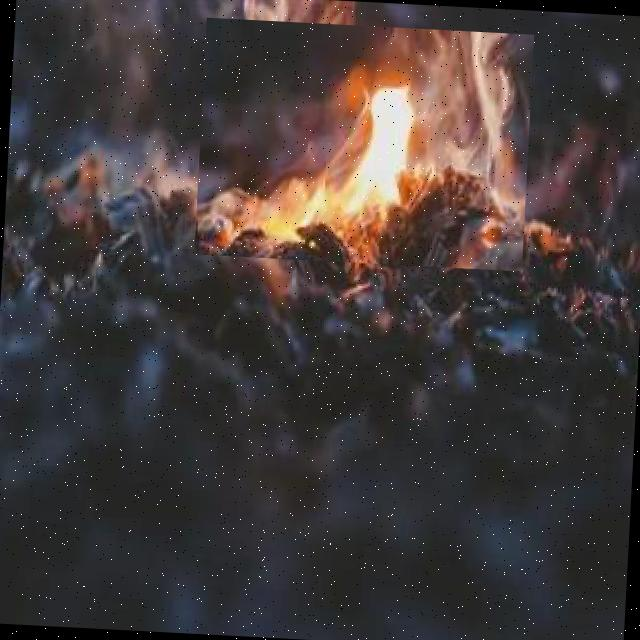fire: (194, 18, 534, 272)
